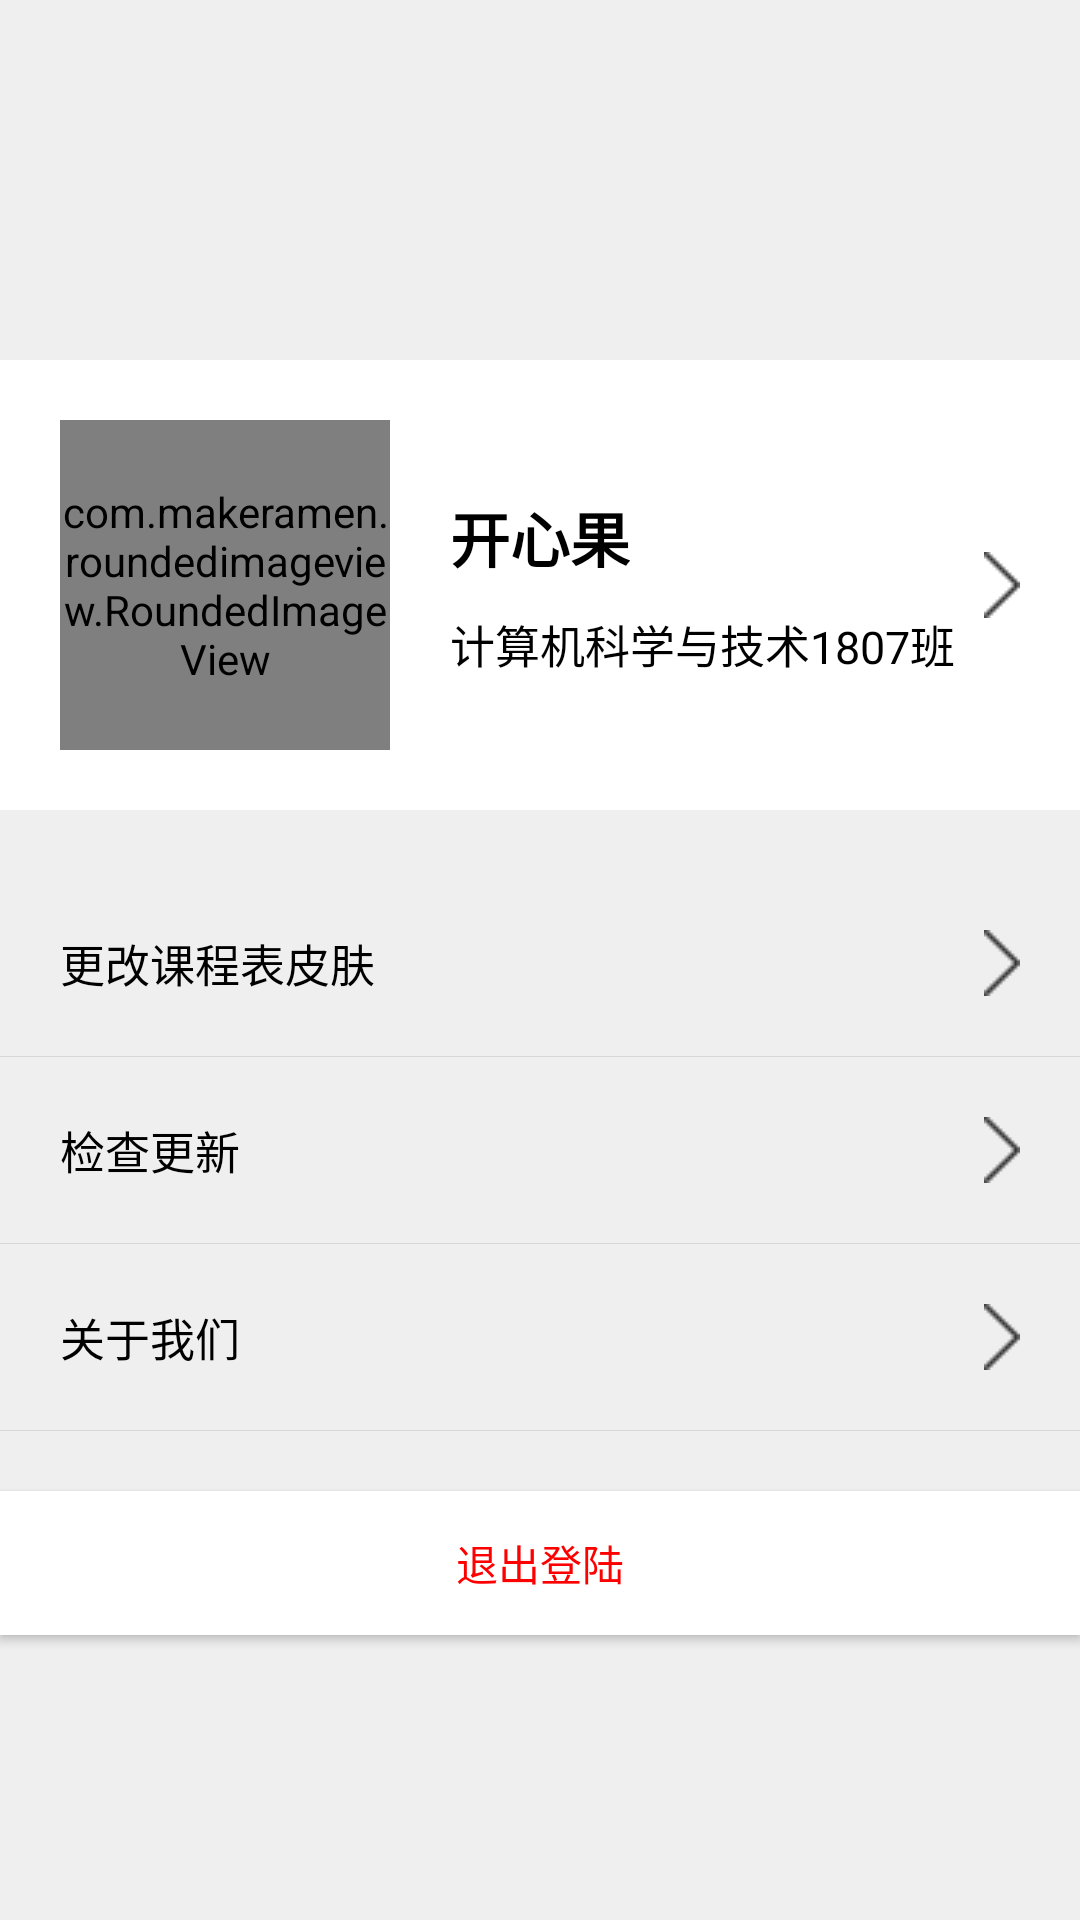

Icons on this 1080w x 1920h Android screen, each with its box as (x1, y1, x2, y2):
arrow forward: (984, 552, 1020, 618)
